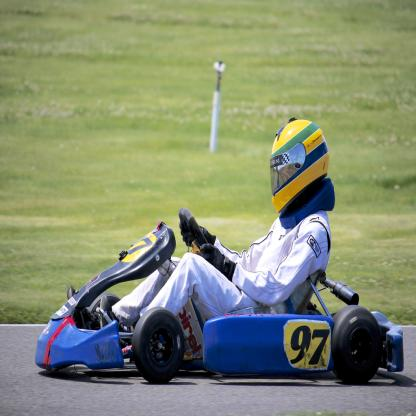Helmet: (268, 118, 334, 230)
